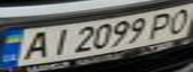0: (90, 20, 115, 51)
2: (72, 24, 96, 54)
9: (124, 15, 157, 44), (109, 18, 136, 48)
A: (12, 29, 54, 61)
I: (42, 26, 75, 56)
O: (160, 6, 193, 35)
P: (142, 10, 181, 39)
